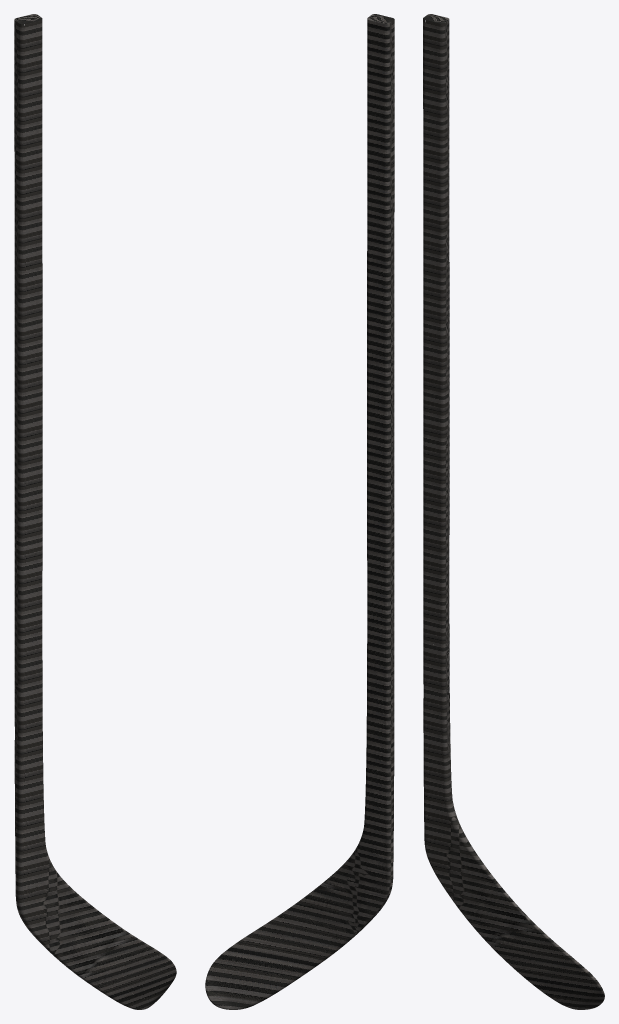
Rendered from YAK-65-ST.glb.
3 views of the same model, side by side, from view 1: azimuth 30°, elevation 25°; view 2: azimuth 150°, elevation 25°; view 3: azimuth 330°, elevation 25° (orthographic). The views are drawn at different scales.
Parts seen in each view (by area): view 1: geometry_0; view 2: geometry_0; view 3: geometry_0.
Part boxes in pixels (box(x1,y1,x2,y2)): geometry_0: box(14, 14, 176, 1009); geometry_0: box(205, 14, 394, 1009); geometry_0: box(423, 14, 604, 1009).
Bounding box in the file's own units: 225 × 1274 × 55.36.
Materials: 1 (1 with a texture image).
